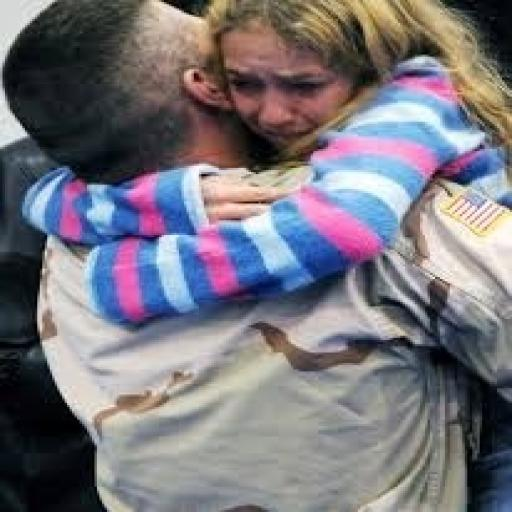hugging: (0, 0, 510, 510)
